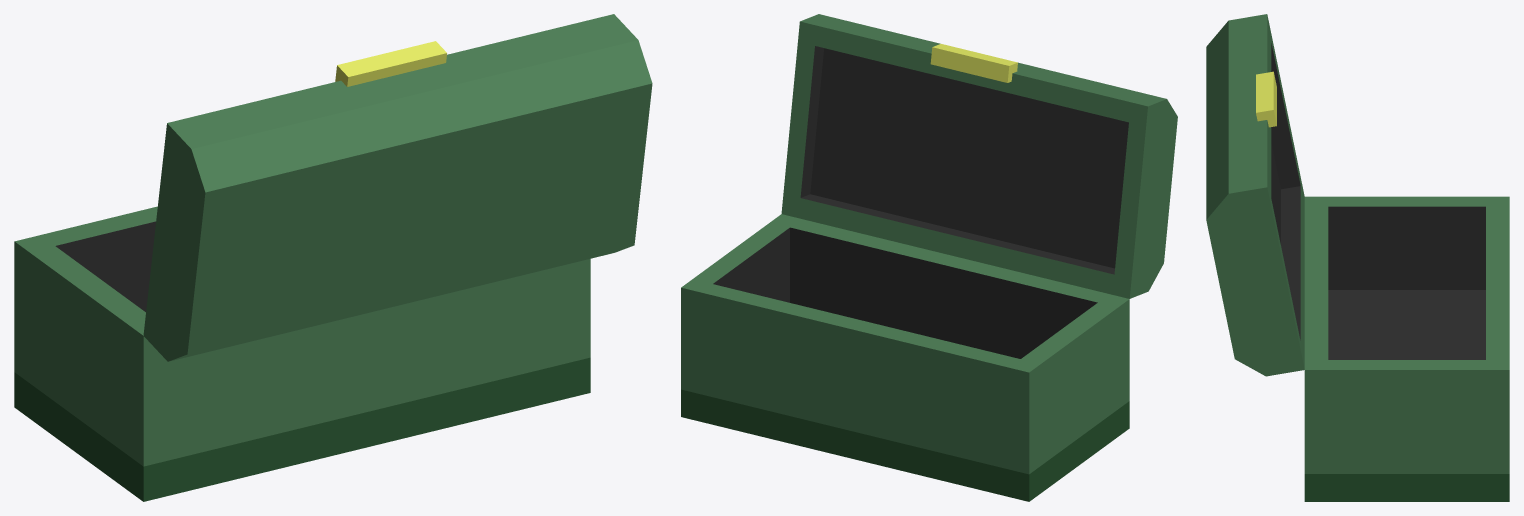
The model's file is chest.fbx.
3 views of the same model, side by side, from view 1: azimuth 30°, elevation 25°; view 2: azimuth 150°, elevation 25°; view 3: azimuth 270°, elevation 25° (orthographic). The views are drawn at different scales.
Visible parts, largest first — view 1: ChestTop, ChestBottom; view 2: ChestBottom, ChestTop; view 3: ChestBottom, ChestTop.
Boxes of the visible parts, x1,y1,x2,y2 form: ChestTop: (143,14,652,361); ChestBottom: (14,206,590,501); ChestBottom: (681,214,1129,501); ChestTop: (781,14,1177,298); ChestBottom: (1304,196,1509,501); ChestTop: (1206,14,1304,376).
Size of the model in its own units: 400 by 349 by 296.
